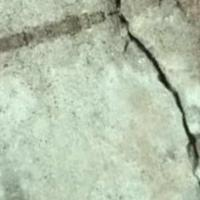crack: (97, 0, 199, 171)
